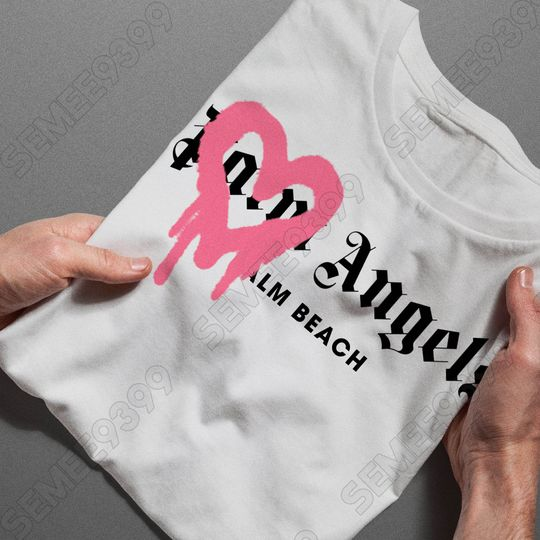design: (150, 97, 490, 402)
